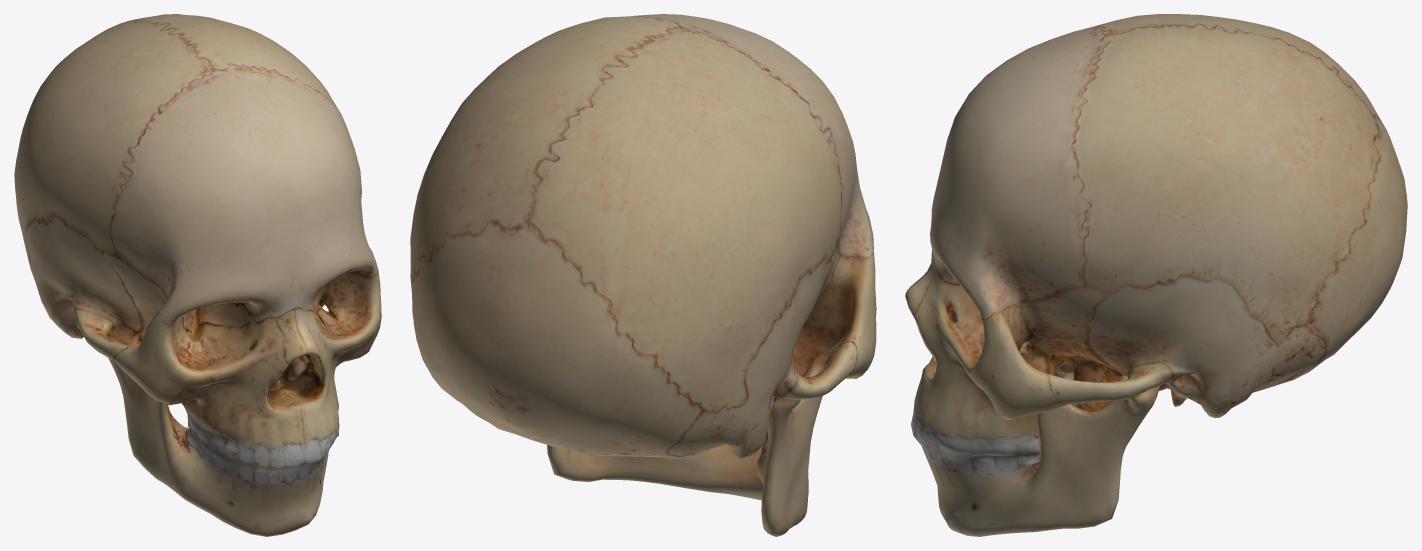
The model's file is scrap_skull.glb.
3 views of the same model, side by side, from view 1: azimuth 30°, elevation 25°; view 2: azimuth 150°, elevation 25°; view 3: azimuth 270°, elevation 25° (orthographic). The views are drawn at different scales.
Visible parts, largest first — view 1: Object_2; view 2: Object_2; view 3: Object_2.
Boxes of the visible parts, box(x1,y1,x2,y2) form: Object_2: box(14, 14, 381, 536); Object_2: box(410, 14, 876, 536); Object_2: box(905, 14, 1407, 536).
Bounding box in the file's own units: 5.09 × 7.68 × 7.05.
Materials: 1 (1 with a texture image).
